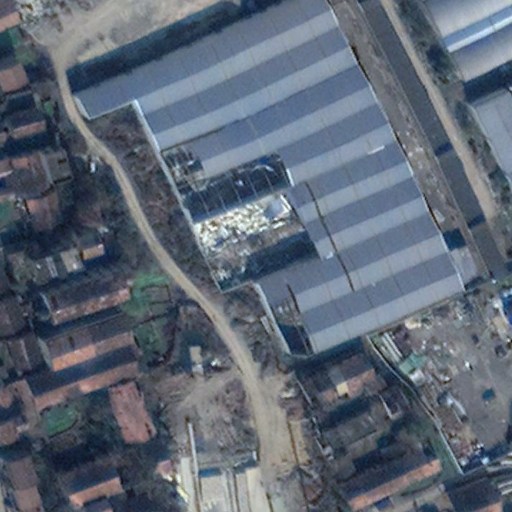msw: (186, 193, 299, 250)
